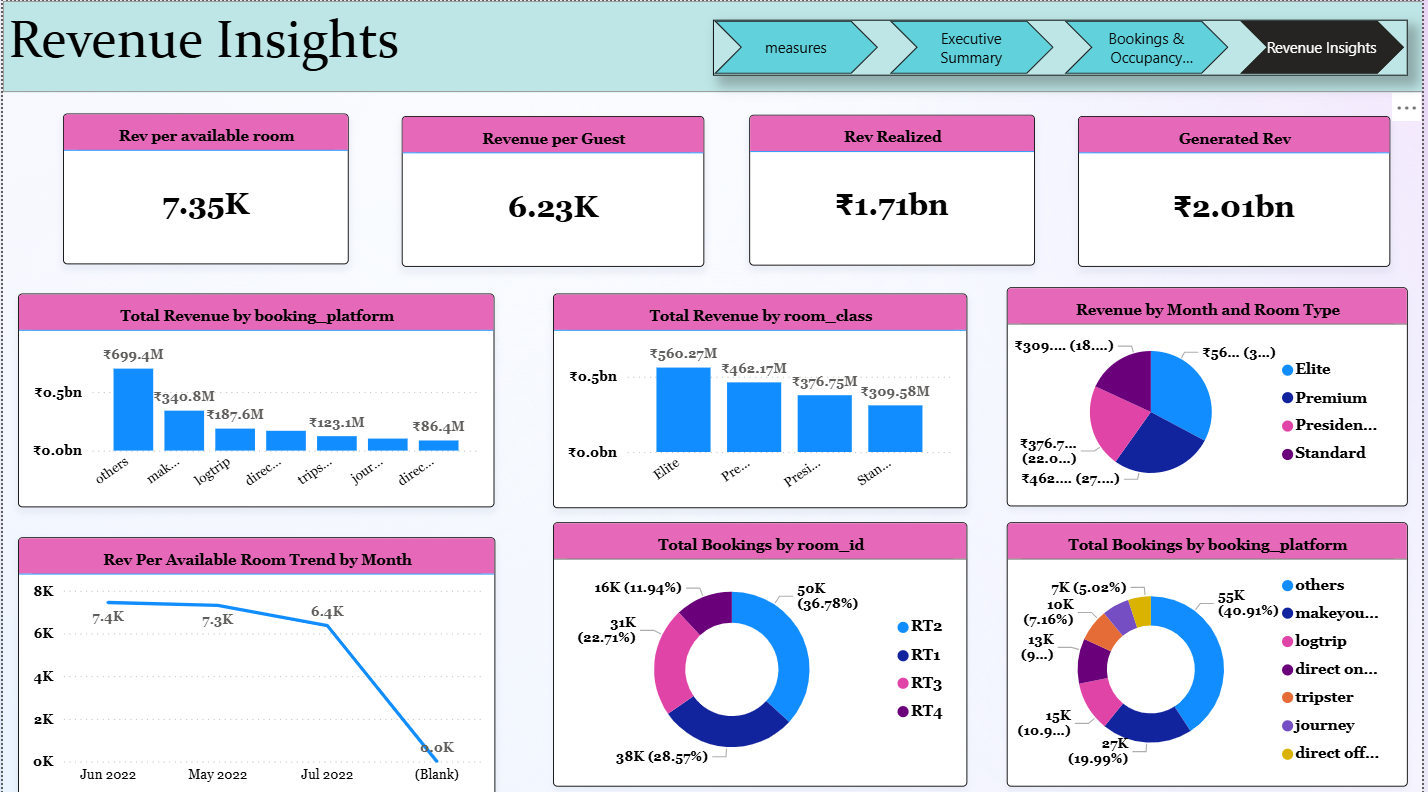

This screenshot's page, from the dashboard's own definition file:
{"tool":"powerbi","page":{"name":"Revenue Insights","canvas":[1280,720],"ordinal":3},"visuals":[{"type":"columnChart","fields":{"Category":["fact_bookings.booking_platform"],"Y":["measures (2).Total Revenue"]},"box":[13.9,263.6,429.7,192.7],"z":0},{"type":"pieChart","title":"Revenue by Month and Room Type","fields":{"Category":["dim_date.Month-Year","dim_rooms.room_class"],"Y":["measures (2).Total Revenue"]},"box":[905,258.6,361.2,197.7],"z":1000},{"type":"lineChart","title":"Rev Per Available Room Trend by Month","fields":{"Category":["dim_date.Month-Year"],"Y":["measures (2).Revenue Per Available Room"]},"box":[13.5,483,430.4,237.2],"z":2000},{"type":"donutChart","fields":{"Category":["fact_bookings.booking_platform"],"Y":["measures (2).Total Bookings"]},"box":[905,470.2,361.2,238.3],"z":3000},{"type":"textbox","box":[0,0,1280.2,82.4],"z":4000},{"type":"card","title":"Rev per available room","fields":{"Values":["measures (2).Revenue Per Available Room"]},"box":[54.5,101.4,257.3,135.6],"z":5000},{"type":"card","title":"Revenue per Guest","fields":{"Values":["measures (2).Revenue per Guest"]},"box":[360,103.9,272.5,135.6],"z":6000},{"type":"pageNavigator","box":[640.1,16.5,626.1,50.7],"z":7000},{"type":"card","title":"Rev Realized","fields":{"Values":["measures (2).Total Revenue"]},"box":[673,102.7,257.3,135.6],"z":8000},{"type":"card","title":"Generated Rev","fields":{"Values":["measures (2).Total Generated Rev"]},"box":[969.6,103.9,281.4,135.6],"z":9000},{"type":"columnChart","fields":{"Y":["measures (2).Total Revenue"],"Category":["dim_rooms.room_class"]},"box":[495.6,263.6,373.9,193.9],"z":10000},{"type":"donutChart","fields":{"Category":["dim_rooms.room_id"],"Y":["measures (2).Total Bookings"]},"box":[495.6,470.2,373.9,238.3],"z":11000}]}

Visuals, with their boxes in screenshot pixels (x1, y1, x2, y2), scaled from the page's 1280x720 canvas onto the 1428x792 screenshot:
columnChart - fact_bookings.booking_platform x measures (2).Total Revenue: <bbox>16, 290, 495, 502</bbox>
"Revenue by Month and Room Type" pieChart: <bbox>1010, 284, 1413, 502</bbox>
"Rev Per Available Room Trend by Month" lineChart: <bbox>15, 531, 495, 791</bbox>
donutChart - fact_bookings.booking_platform x measures (2).Total Bookings: <bbox>1010, 517, 1413, 779</bbox>
textbox: <bbox>0, 0, 1427, 91</bbox>
"Rev per available room" card: <bbox>61, 112, 348, 261</bbox>
"Revenue per Guest" card: <bbox>402, 114, 706, 263</bbox>
pageNavigator: <bbox>714, 18, 1413, 74</bbox>
"Rev Realized" card: <bbox>751, 113, 1038, 262</bbox>
"Generated Rev" card: <bbox>1082, 114, 1396, 263</bbox>
columnChart - measures (2).Total Revenue x dim_rooms.room_class: <bbox>553, 290, 970, 503</bbox>
donutChart - dim_rooms.room_id x measures (2).Total Bookings: <bbox>553, 517, 970, 779</bbox>
